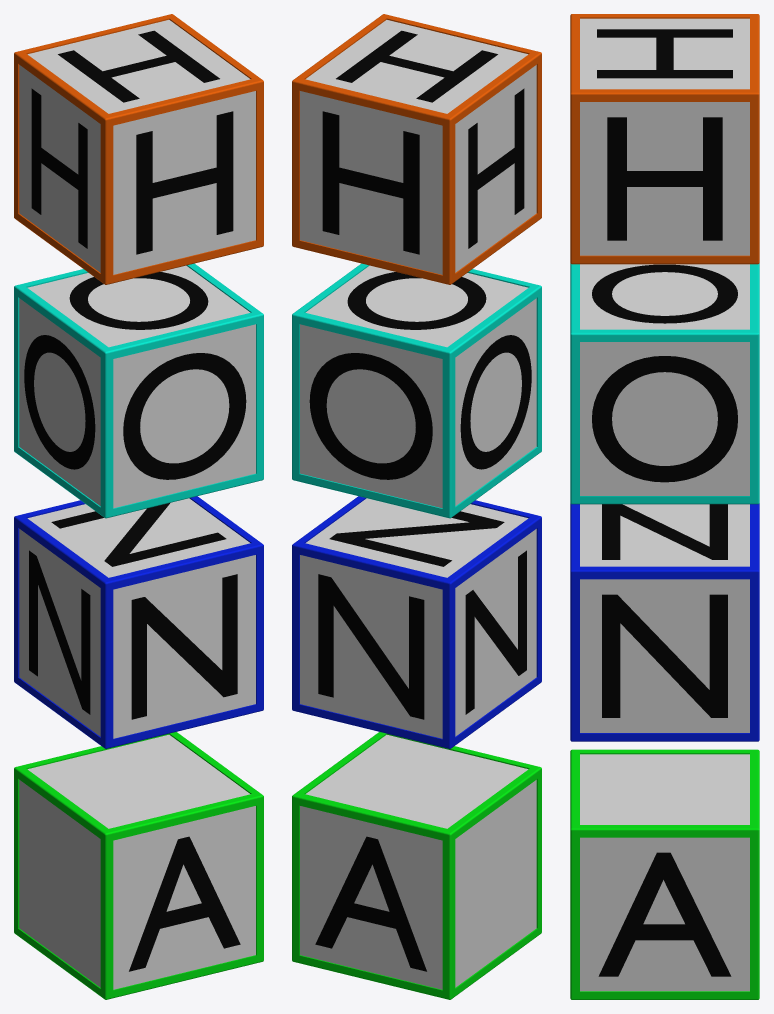
Rendered from BauklotzeNOAH.fbx.
3 views of the same model, side by side, from view 1: azimuth 30°, elevation 25°; view 2: azimuth 150°, elevation 25°; view 3: azimuth 270°, elevation 25° (orthographic). The views are drawn at different scales.
Parts seen in each view (by area): view 1: BlockH, BlockA, BlockO, BlockN; view 2: BlockH, BlockA, BlockO, BlockN; view 3: BlockA, BlockH, BlockO, BlockN.
Boxes of the visible parts, <box> form: BlockH: <box>14,14,263,284</box>; BlockA: <box>14,732,263,999</box>; BlockO: <box>14,263,263,518</box>; BlockN: <box>14,496,263,748</box>; BlockH: <box>292,14,541,284</box>; BlockA: <box>292,732,541,999</box>; BlockO: <box>292,263,541,518</box>; BlockN: <box>292,496,541,748</box>; BlockA: <box>570,749,759,999</box>; BlockH: <box>570,14,759,264</box>; BlockO: <box>570,263,759,504</box>; BlockN: <box>570,503,759,741</box>.
Size of the model in its own units: 199 by 1051 by 199.
